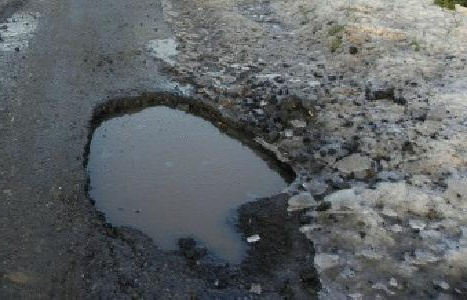pothole: (77, 88, 302, 265), (363, 88, 410, 118), (330, 148, 377, 173)
